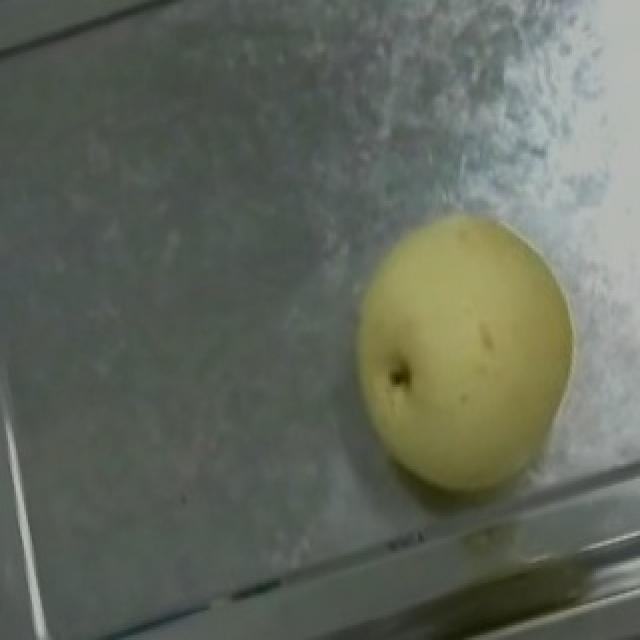Fruit: (304, 181, 624, 538)
